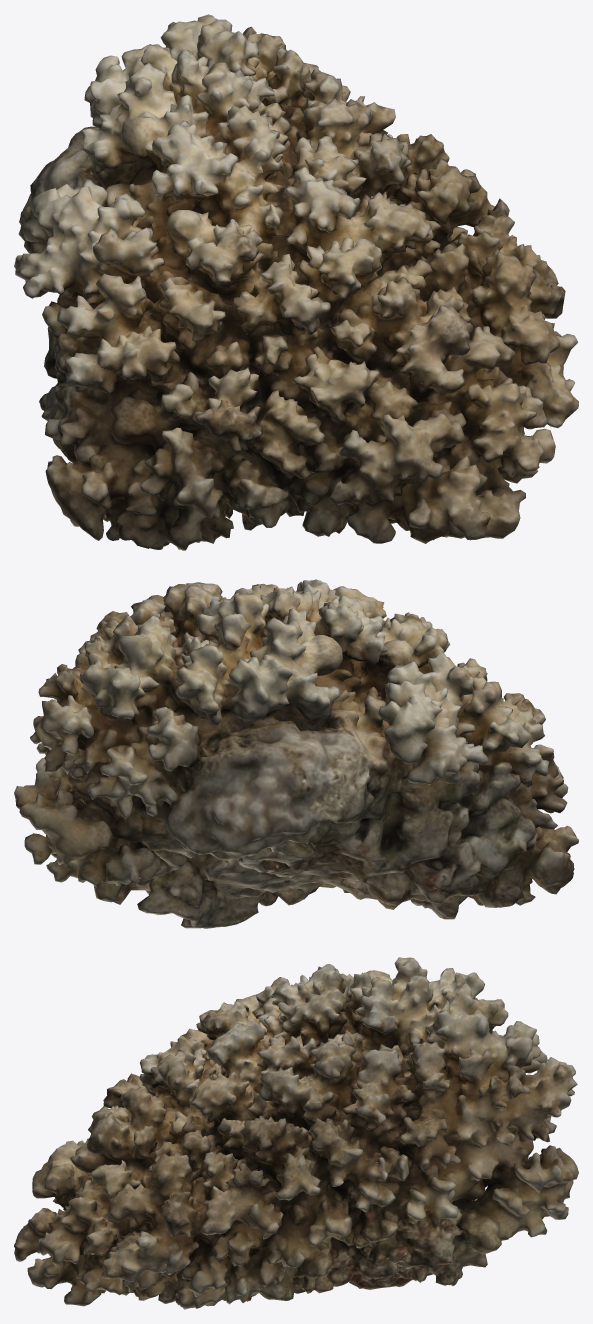
Rendered from pocillopora-44359.glb.
The picture shows the model from 3 angles, top to bottom: view 1: azimuth 30°, elevation 25°; view 2: azimuth 150°, elevation 25°; view 3: azimuth 270°, elevation 25°; orthographic projection. The views are drawn at different scales.
Bounding box in the file's own units: 0.1058 × 0.0756 × 0.1289.
Materials: 1 (1 with a texture image).
